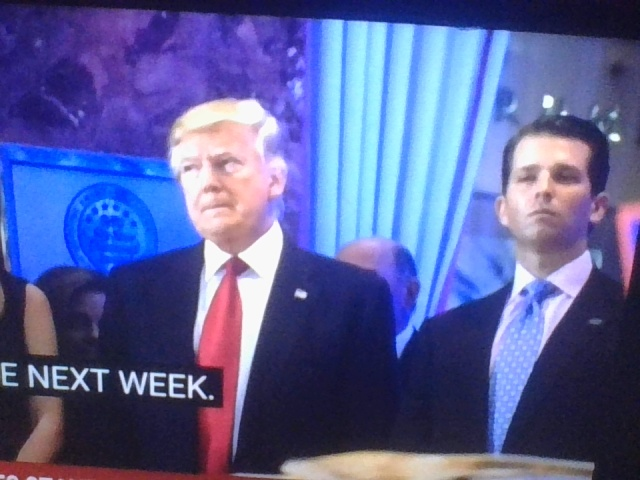fake: (146, 30, 306, 257), (495, 98, 607, 257)
